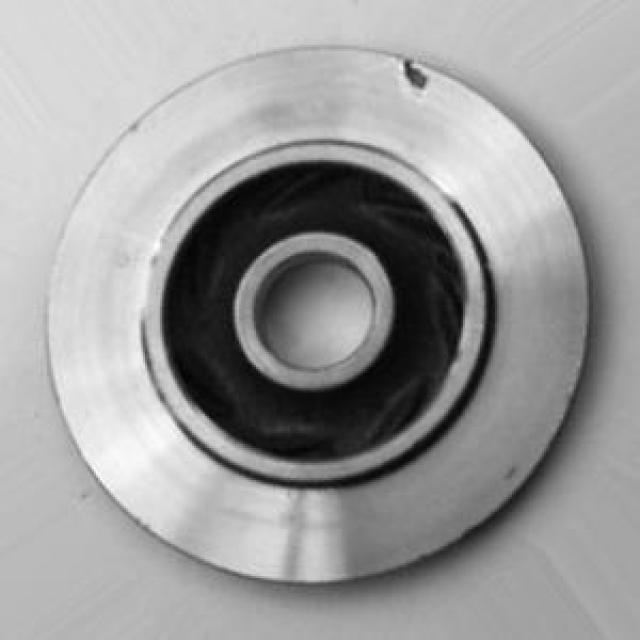Defect: (392, 53, 443, 108)
